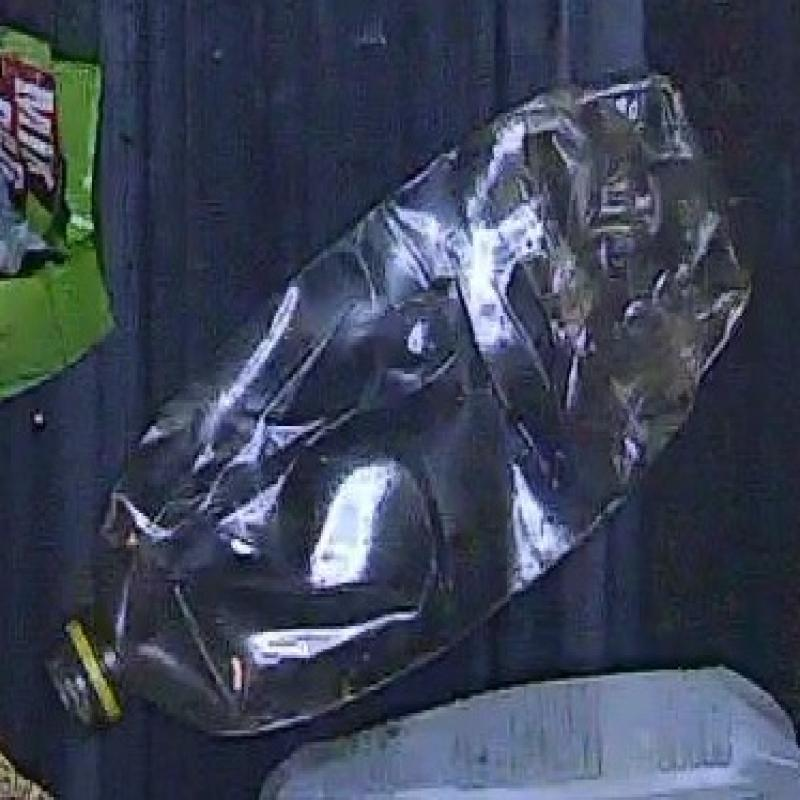botella: (45, 63, 766, 754)
